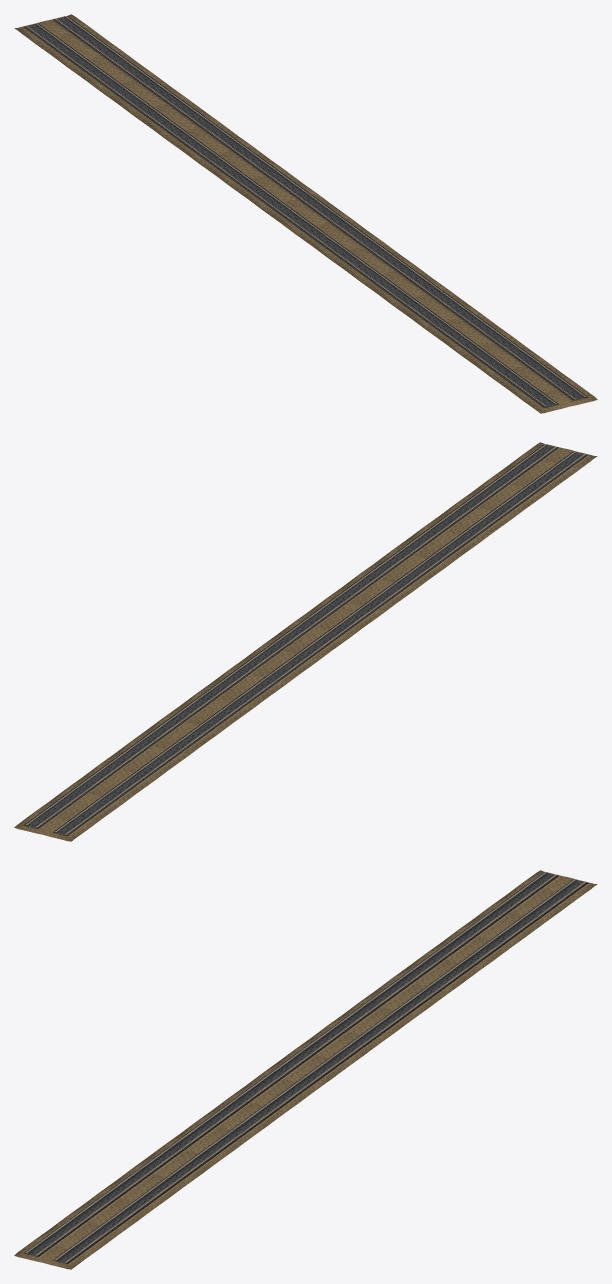
The model's file is HK_RAIL_400.glb.
3 views of the same model, one above another, from view 1: azimuth 30°, elevation 25°; view 2: azimuth 150°, elevation 25°; view 3: azimuth 330°, elevation 25° (orthographic).
Visible parts, largest first — view 1: Jari_All, R000_RG_R, R000_RG_L; view 2: Jari_All, R000_RG_R, R000_RG_L; view 3: Jari_All, R000_RG_L, R000_RG_R.
Boxes of the visible parts, x1,y1,x2,y2 form: Jari_All: (14, 14, 597, 413); R000_RG_R: (26, 18, 576, 406); R000_RG_L: (35, 16, 584, 404); Jari_All: (14, 442, 597, 841); R000_RG_R: (35, 446, 585, 834); R000_RG_L: (26, 444, 576, 832); Jari_All: (14, 870, 597, 1269); R000_RG_L: (35, 874, 585, 1262); R000_RG_R: (27, 872, 576, 1260).
Bounding box in the file's own units: 25.52 × 2.22 × 405.
6 materials, 5 textured.
